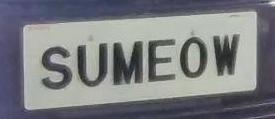0: (175, 27, 213, 83)
E: (143, 31, 181, 88)
M: (110, 36, 145, 93)
S: (36, 39, 77, 97)
U: (74, 40, 109, 93)
W: (209, 27, 244, 86)
